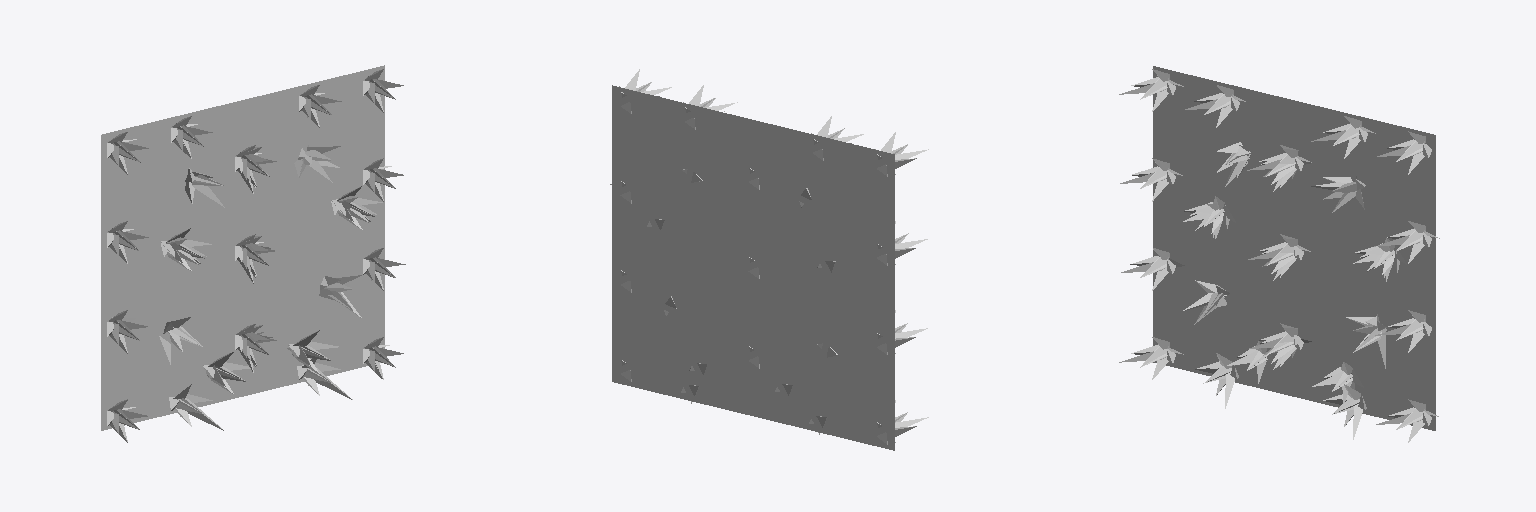
The model's file is grass2.obj.
3 views of the same model, side by side, from view 1: azimuth 30°, elevation 25°; view 2: azimuth 150°, elevation 25°; view 3: azimuth 330°, elevation 25° (orthographic).
Parts seen in each view (by area): view 1: Plano_Material.001; view 2: Plano_Material.001; view 3: Plano_Material.001.
Boxes of the visible parts, x1,y1,x2,y2 form: Plano_Material.001: [101, 65, 405, 442]; Plano_Material.001: [610, 69, 928, 450]; Plano_Material.001: [1119, 66, 1439, 442].
Bounding box in the file's own units: 14 × 14 × 2.33.